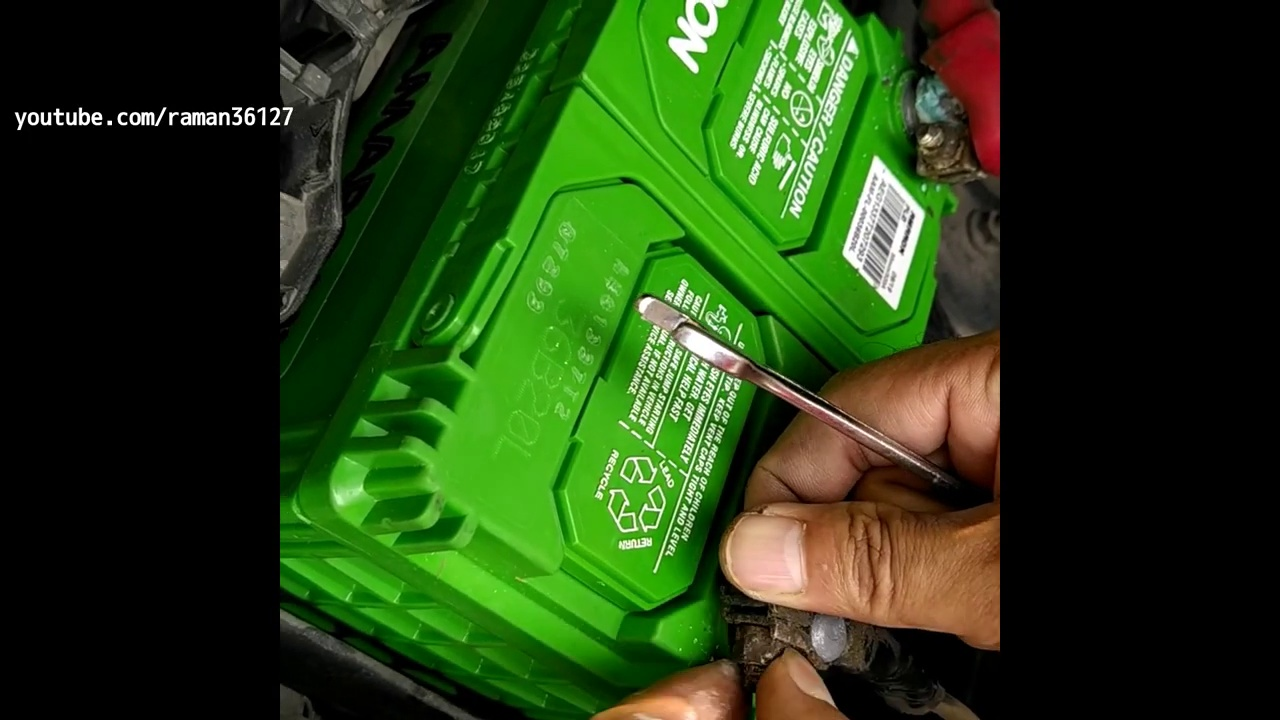battery: (395, 9, 1006, 714)
neg_connected: (735, 582, 925, 681)
neg_touched: (611, 460, 994, 715)
pos_connected: (884, 23, 1021, 227)
